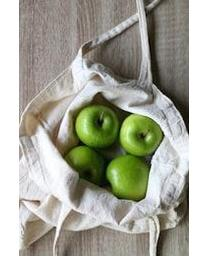apple: (105, 156, 150, 201), (120, 114, 163, 159), (75, 104, 118, 148), (63, 147, 106, 186)
